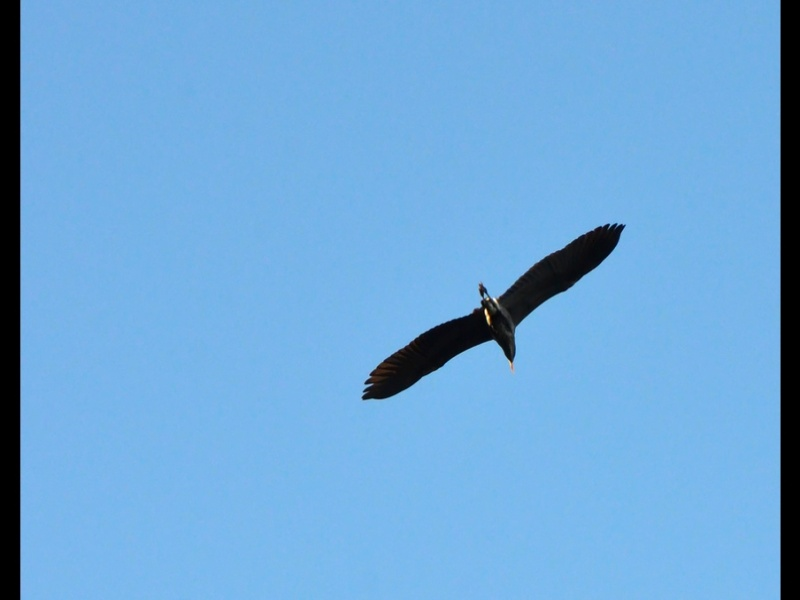heron: (358, 218, 629, 404)
